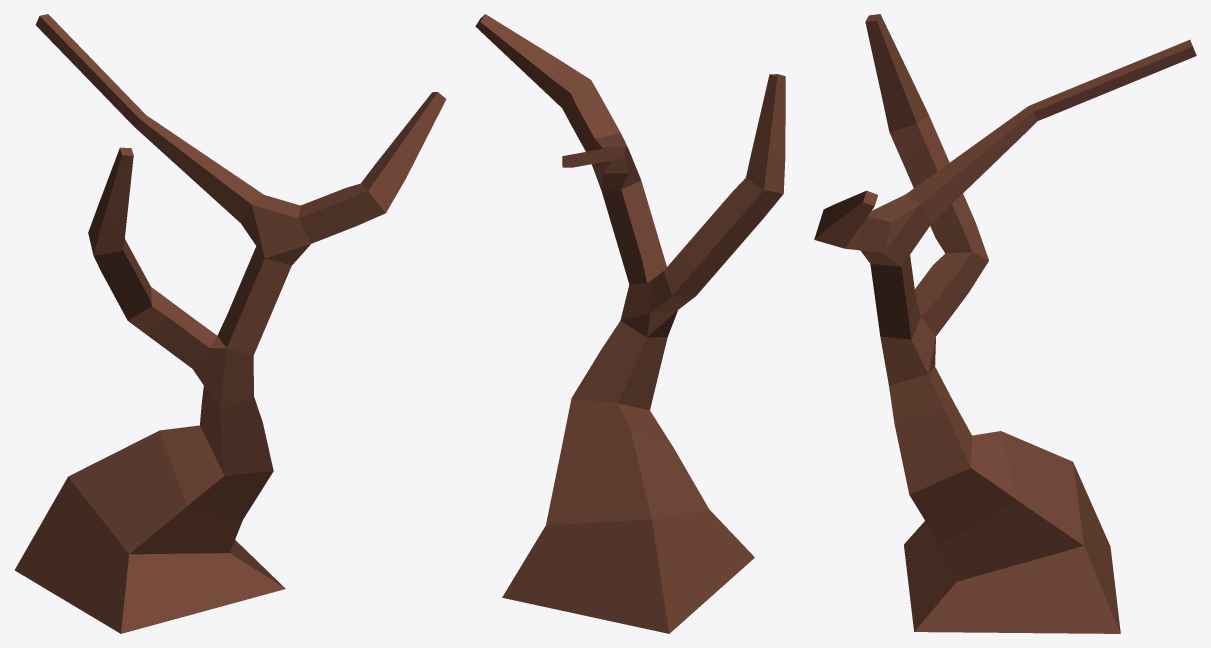
Rendered from tree2.fbx.
3 renders of one model, left to right at view 1: azimuth 30°, elevation 25°; view 2: azimuth 150°, elevation 25°; view 3: azimuth 270°, elevation 25°, orthographic. The views are drawn at different scales.
Visible parts, largest first — view 1: tree2; view 2: tree2; view 3: tree2.
Boxes of the visible parts, box(x1,y1,x2,y2) form: tree2: box(14, 14, 446, 633); tree2: box(475, 14, 785, 633); tree2: box(814, 14, 1196, 633).
Size of the model in its own units: 2.93 by 4.28 by 2.75.
